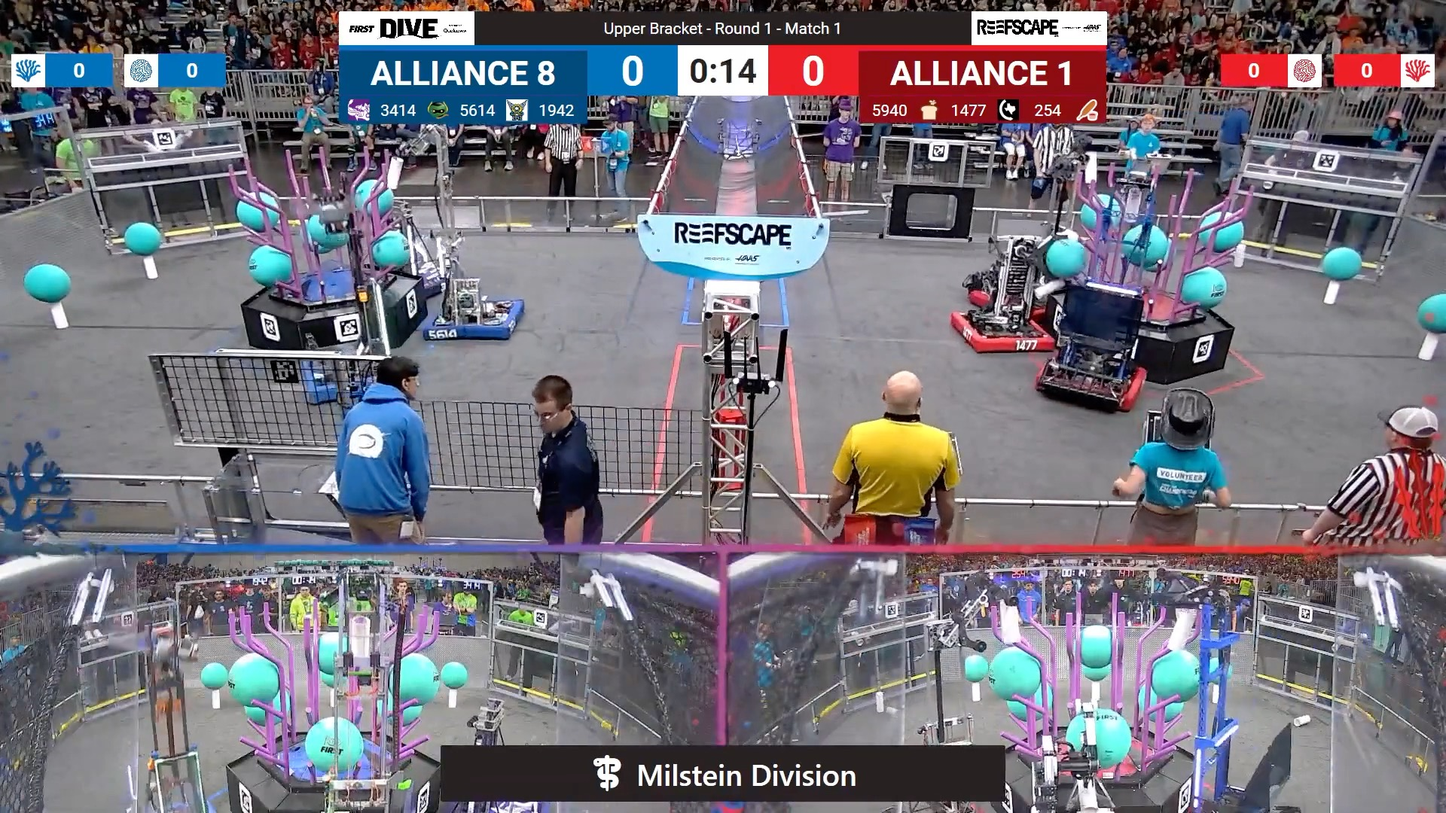bumpers: (1030, 355, 1151, 416), (292, 347, 398, 406), (940, 306, 1057, 356), (423, 292, 528, 341), (959, 268, 1055, 315), (121, 786, 222, 813)
